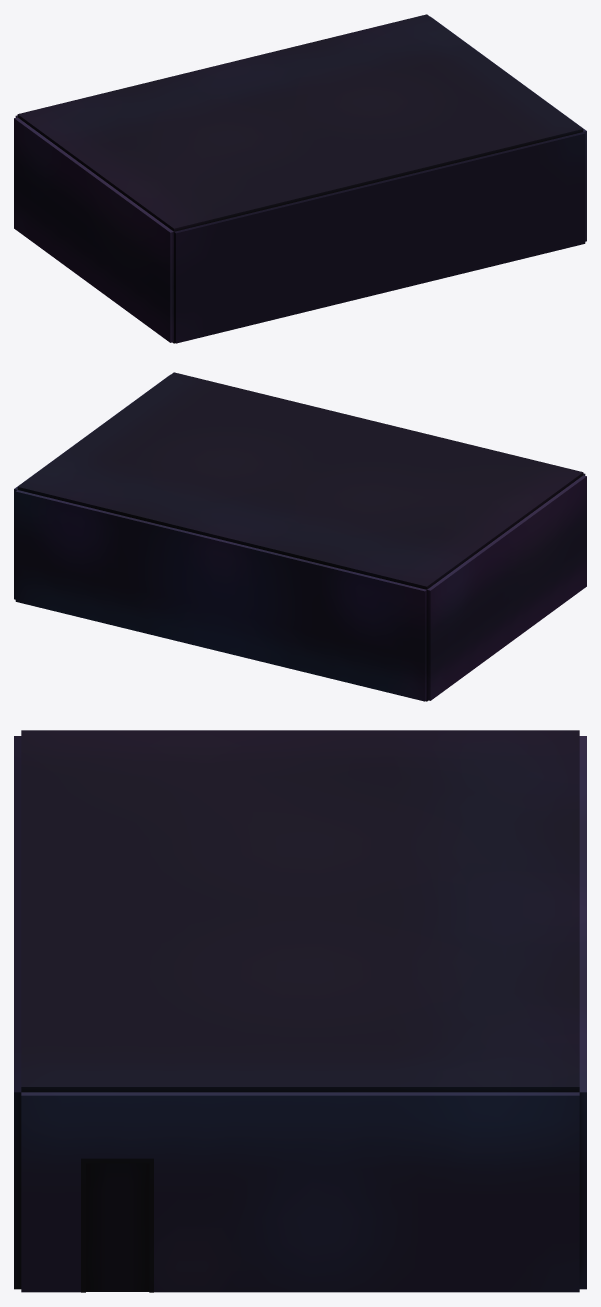
3 renders of one model, top to bottom at view 1: azimuth 30°, elevation 25°; view 2: azimuth 150°, elevation 25°; view 3: azimuth 270°, elevation 25°, orthographic. The views are drawn at different scales.
Visible parts, largest first — view 1: CEILING, FRONT_WALL, WALLS; view 2: WALLS, CEILING; view 3: CEILING, WALLS, DOOR, FRONT_WALL, DOOR_FRAME.
Boxes of the visible parts, <box> form: CEILING: <box>17,14,583,231</box>; FRONT_WALL: <box>174,132,585,343</box>; WALLS: <box>14,16,586,342</box>; WALLS: <box>14,374,586,701</box>; CEILING: <box>17,372,583,589</box>; CEILING: <box>21,730,579,1092</box>; WALLS: <box>21,736,586,1292</box>; DOOR: <box>86,1163,149,1291</box>; FRONT_WALL: <box>14,736,21,1289</box>; DOOR_FRAME: <box>81,1158,153,1292</box>.
Size of what is drawn, in the model's own units: 13.85 by 3.65 by 9.24.
